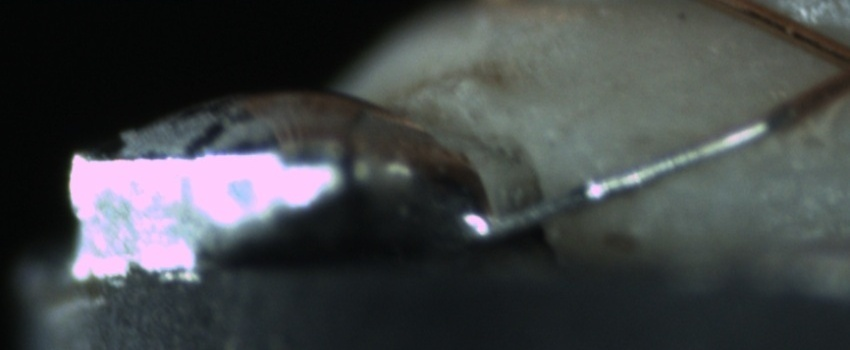CL: (808, 34, 850, 107)
TS: (469, 116, 783, 235)
TTCW: (457, 81, 826, 230)
